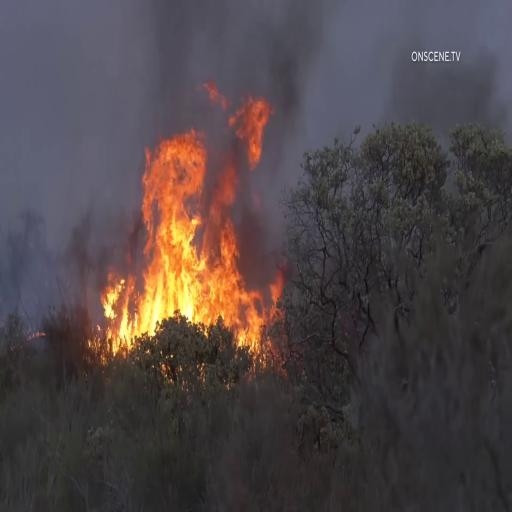fire: (125, 80, 275, 329)
